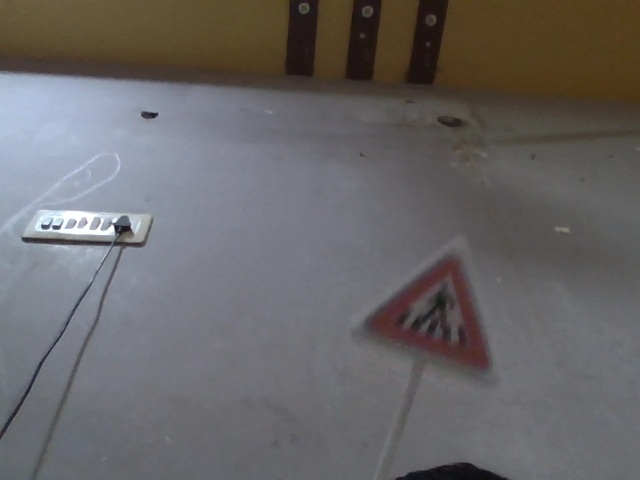crossing: (329, 237, 504, 366)
